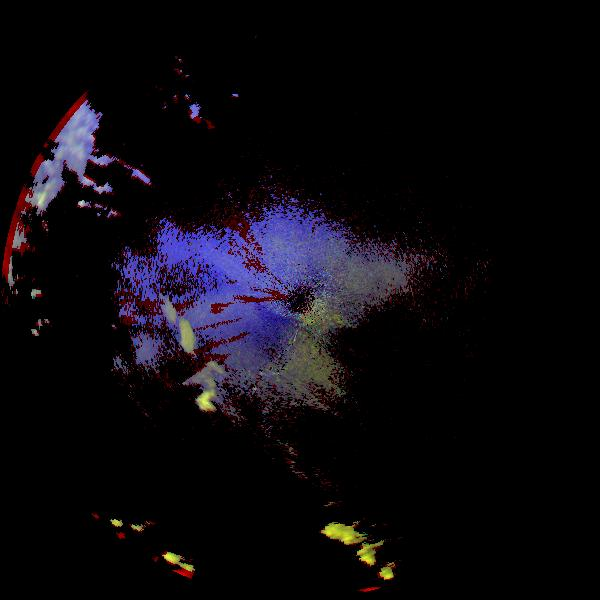roost: (113, 303, 224, 414)
